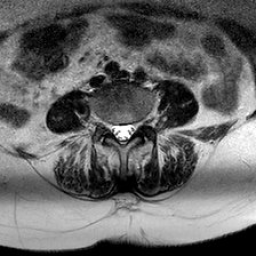CCS_normal: (118, 115, 126, 154)
LFS_stenosis: (136, 110, 144, 133)
LLS_normal: (126, 114, 136, 142)
RFS_stenosis: (101, 110, 109, 138)
RLS_normal: (109, 116, 118, 142)
